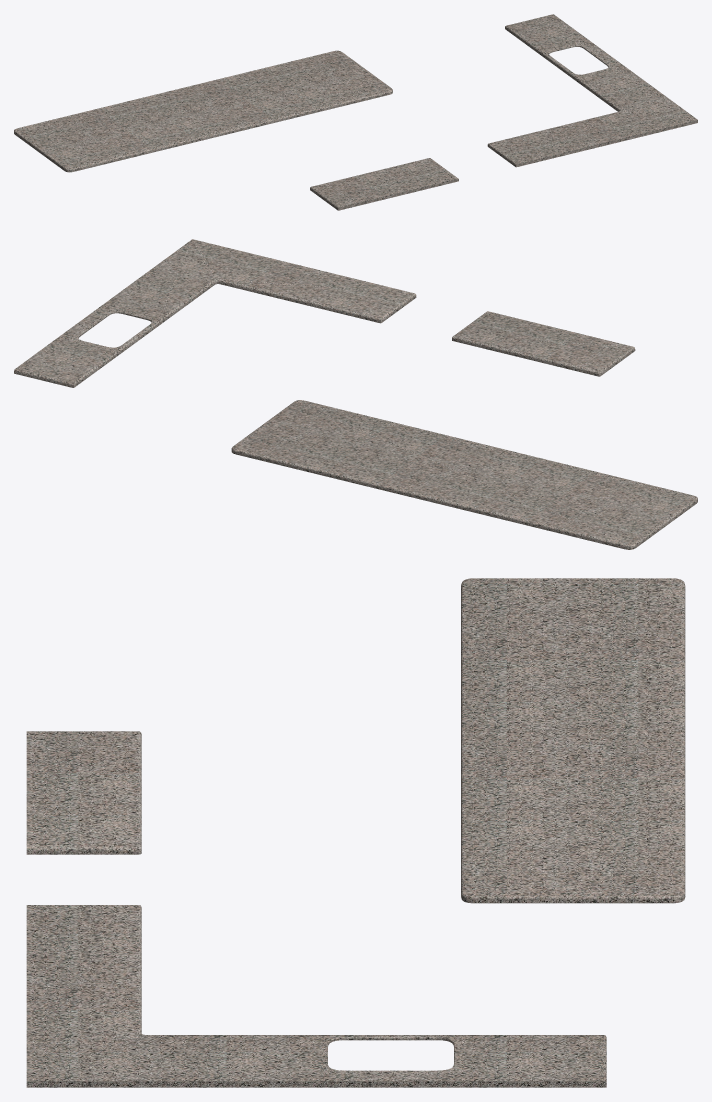
Rendered from 1860_kitchen_Countertops_GraniteCaledonia.gltf.
3 renders of one model, top to bottom at view 1: azimuth 30°, elevation 25°; view 2: azimuth 150°, elevation 25°; view 3: azimuth 270°, elevation 25°, orthographic. The views are drawn at different scales.
Parts seen in each view (by area): view 1: Countertops_Granite Caledonia; view 2: Countertops_Granite Caledonia; view 3: Countertops_Granite Caledonia.
Boxes of the visible parts, bbox=[...] form: Countertops_Granite Caledonia: bbox=[14, 14, 697, 210]; Countertops_Granite Caledonia: bbox=[14, 239, 697, 549]; Countertops_Granite Caledonia: bbox=[26, 578, 685, 1087].
Bounding box in the file's own units: 8.6 × 0.09 × 4.7.
1 material, 1 textured.
